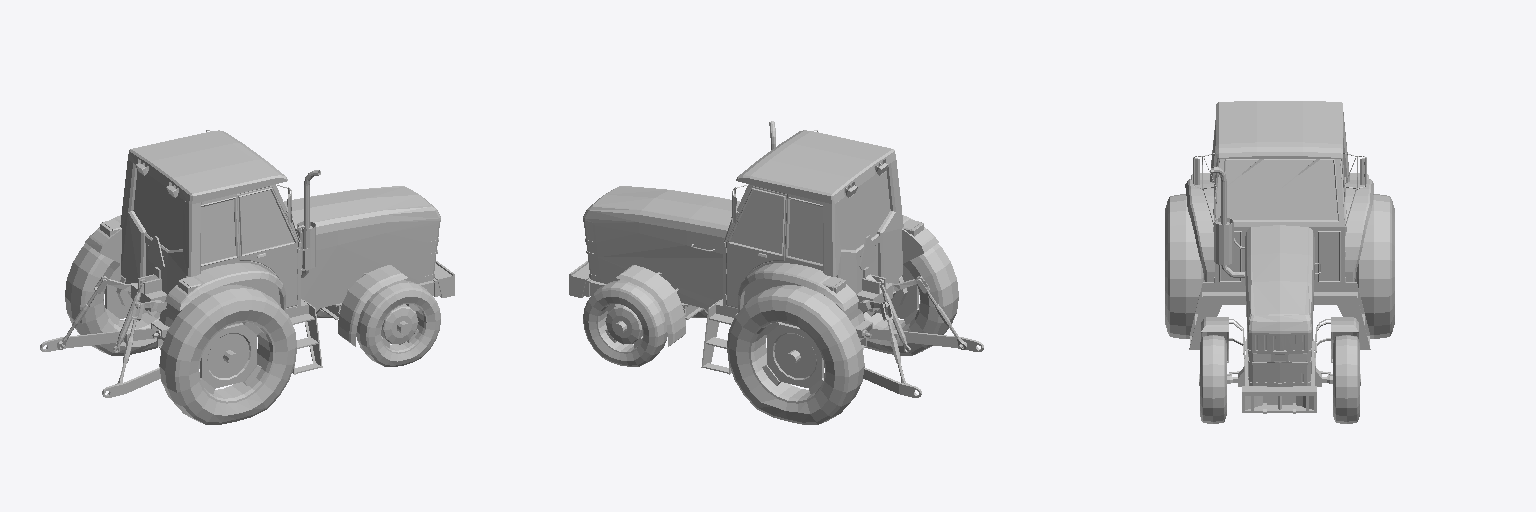
File: Tractor.obj
3 renders of one model, left to right at view 1: azimuth 30°, elevation 25°; view 2: azimuth 150°, elevation 25°; view 3: azimuth 270°, elevation 25°, orthographic.
Parts seen in each view (by area): view 1: _null_; view 2: _null_; view 3: _null_.
Part boxes in pixels (bbox=[...]): _null_: bbox=[40, 130, 454, 424]; _null_: bbox=[569, 121, 983, 424]; _null_: bbox=[1165, 101, 1394, 423].
Size of the model in its own units: 321 by 182 by 173.